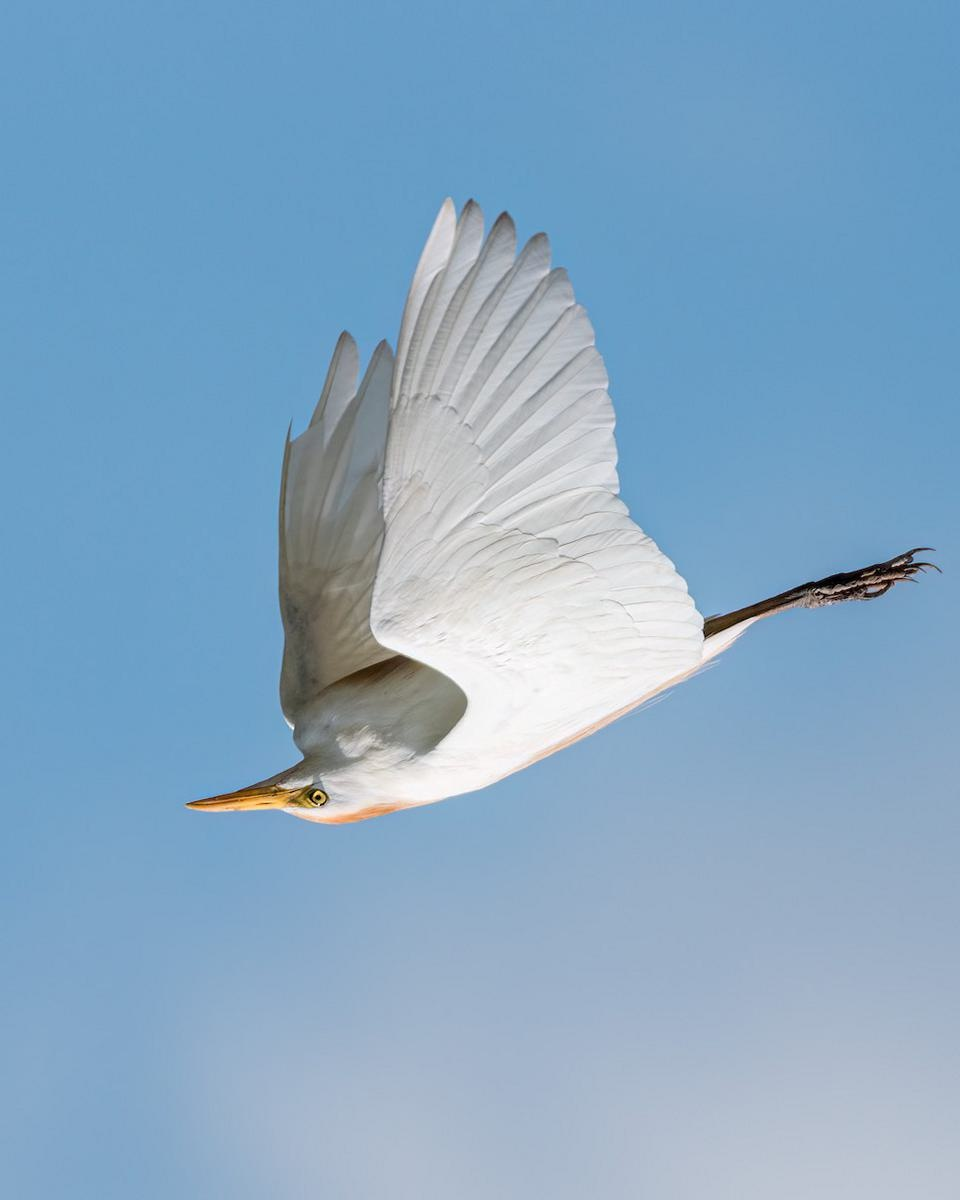egret: (159, 154, 956, 846)
